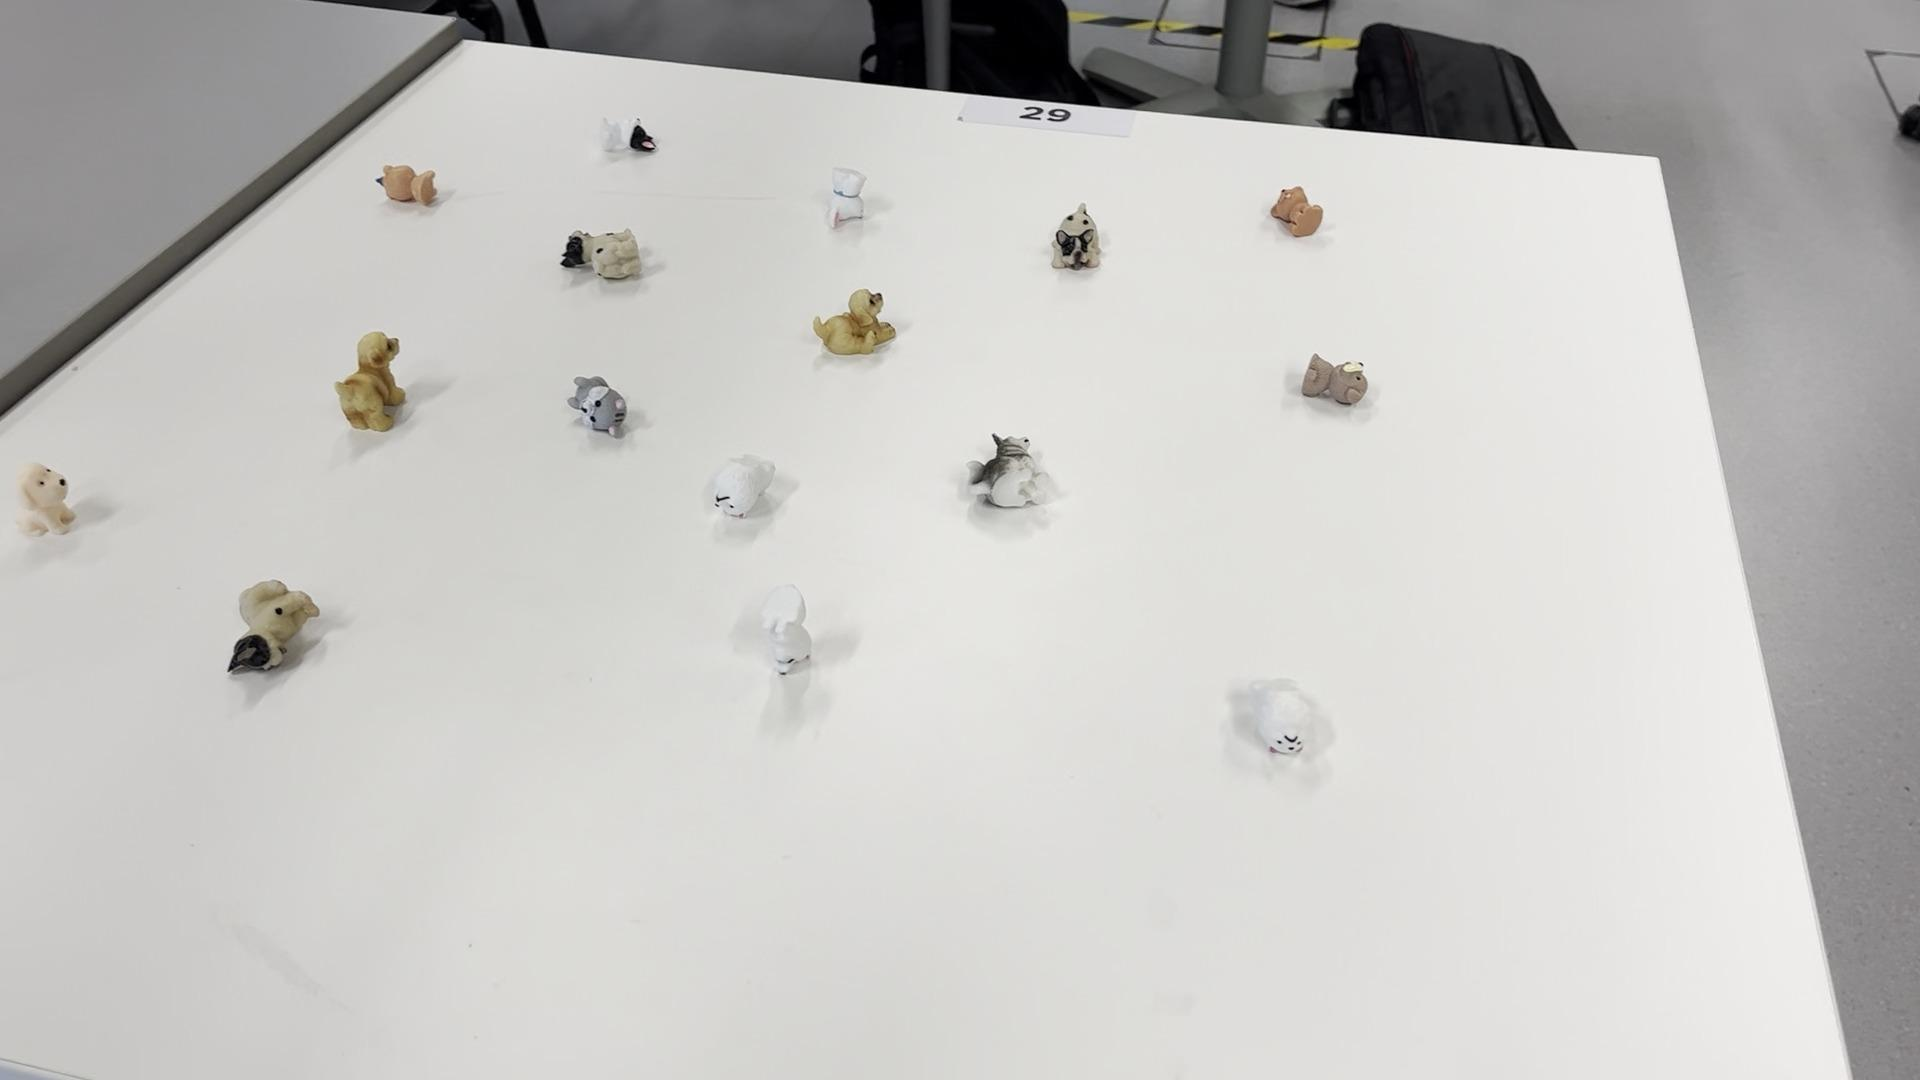pet: (219, 564, 328, 690), (320, 318, 415, 450), (956, 418, 1065, 517), (1238, 659, 1325, 773), (4, 444, 86, 553), (798, 280, 903, 360), (554, 212, 658, 293), (753, 575, 820, 683), (556, 360, 636, 443), (702, 444, 781, 522), (361, 153, 456, 218), (1286, 345, 1375, 413), (1046, 195, 1108, 282), (582, 108, 666, 170), (822, 153, 878, 232), (1269, 175, 1331, 243)
